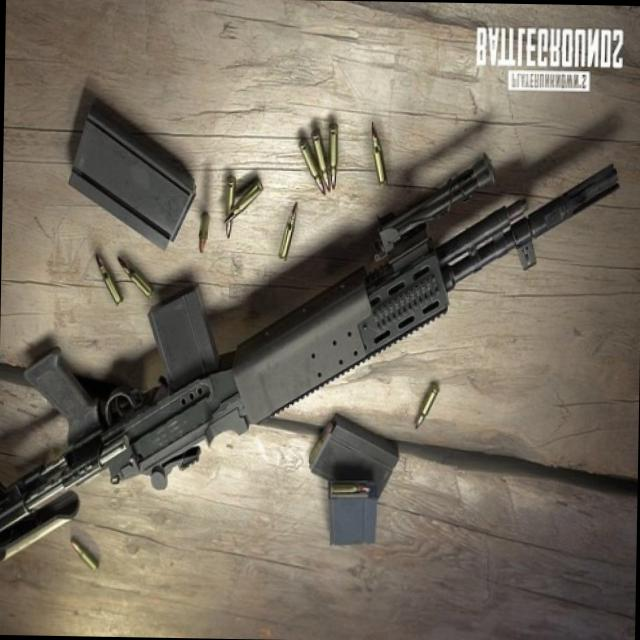Gun: (0, 95, 640, 578)
